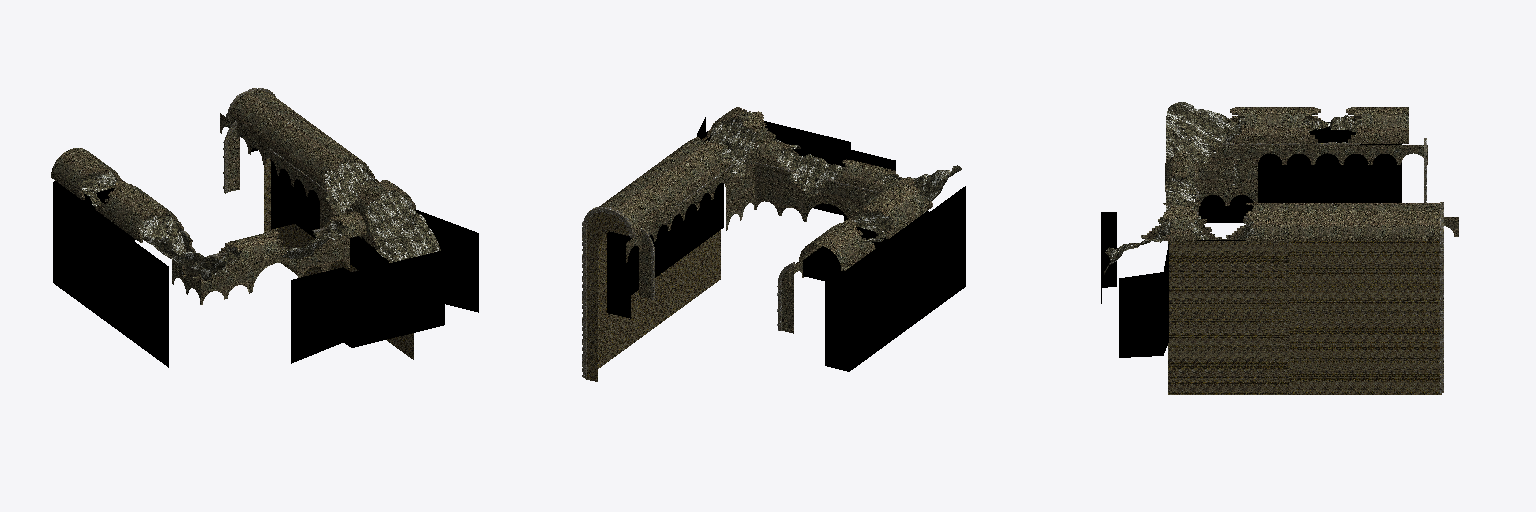
The picture shows the model from 3 angles: view 1: azimuth 30°, elevation 25°; view 2: azimuth 150°, elevation 25°; view 3: azimuth 270°, elevation 25°; orthographic projection.
Parts seen in each view (by area): view 1: mesh6, mesh3, mesh2, mesh0, mesh1, mesh5; view 2: mesh6, mesh3, mesh0, mesh2, mesh1, mesh5; view 3: mesh0, mesh3, mesh6, mesh2, mesh1.
Part boxes in pixels (left/top/right/bottom): mesh6: left=53, top=148, right=478, bottom=367; mesh3: left=51, top=90, right=415, bottom=304; mesh2: left=79, top=160, right=440, bottom=279; mesh0: left=264, top=158, right=413, bottom=359; mesh1: left=178, top=88, right=329, bottom=256; mesh5: left=228, top=127, right=239, bottom=191; mesh6: left=607, top=117, right=965, bottom=371; mesh3: left=599, top=107, right=932, bottom=287; mesh0: left=585, top=135, right=720, bottom=381; mesh2: left=705, top=118, right=961, bottom=243; mesh1: left=582, top=162, right=878, bottom=377; mesh5: left=639, top=233, right=793, bottom=333; mesh0: left=1168, top=241, right=1441, bottom=394; mesh3: left=1141, top=107, right=1458, bottom=240; mesh6: left=1101, top=122, right=1401, bottom=357; mesh2: left=1104, top=102, right=1361, bottom=274; mesh1: left=1196, top=138, right=1443, bottom=392.
Bounding box in the file's own units: 36.41 × 21.74 × 39.59.
7 materials, 6 textured.